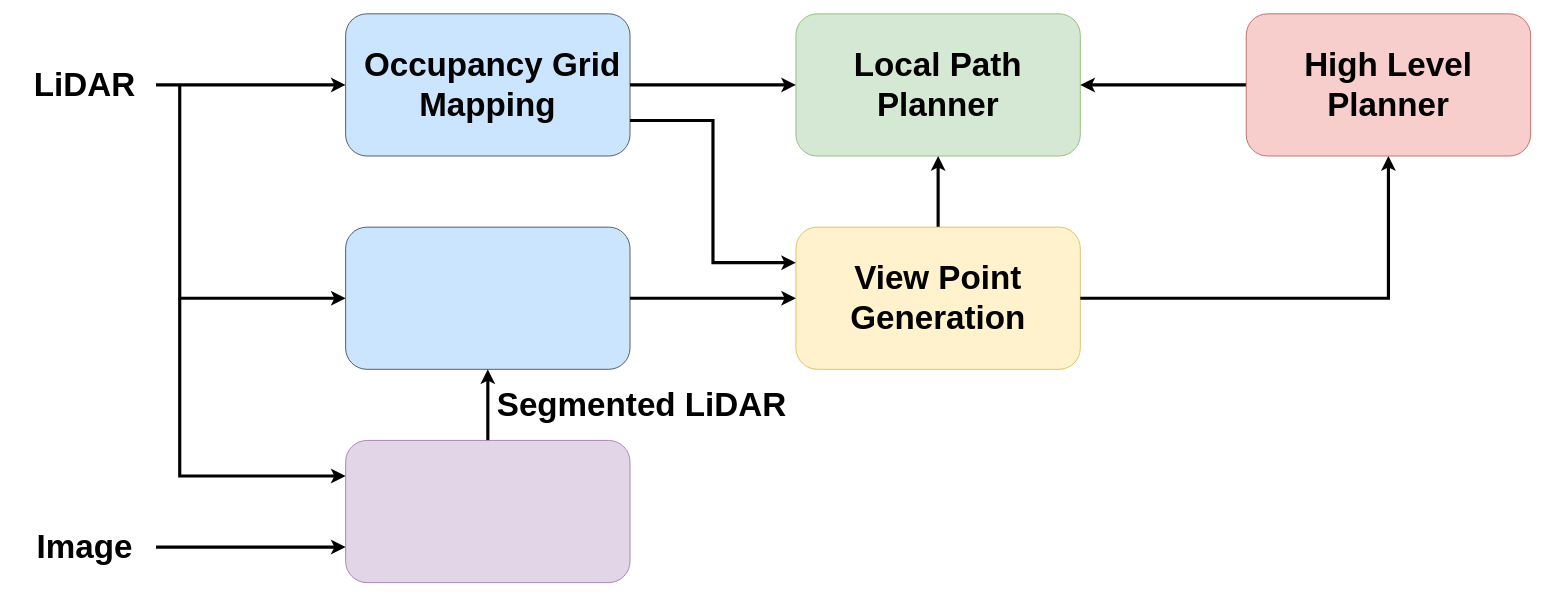
Some shapes in this 1552 by 596 pixel diagram are drawn without their labels. Each missing label, with the centre of its shape:
"Bridge Only Occupancy Grid Mapping" goes at [487,297].
"Bridge Segmentation" goes at [487,511].
